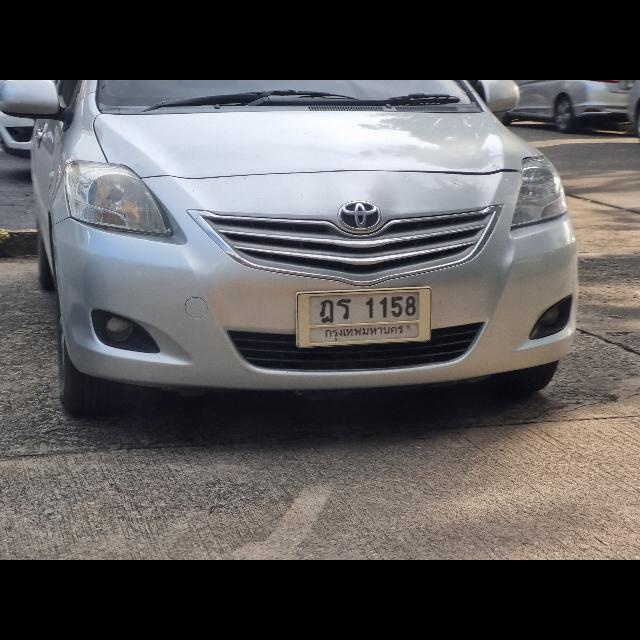licenseplate: (295, 286, 431, 348)
